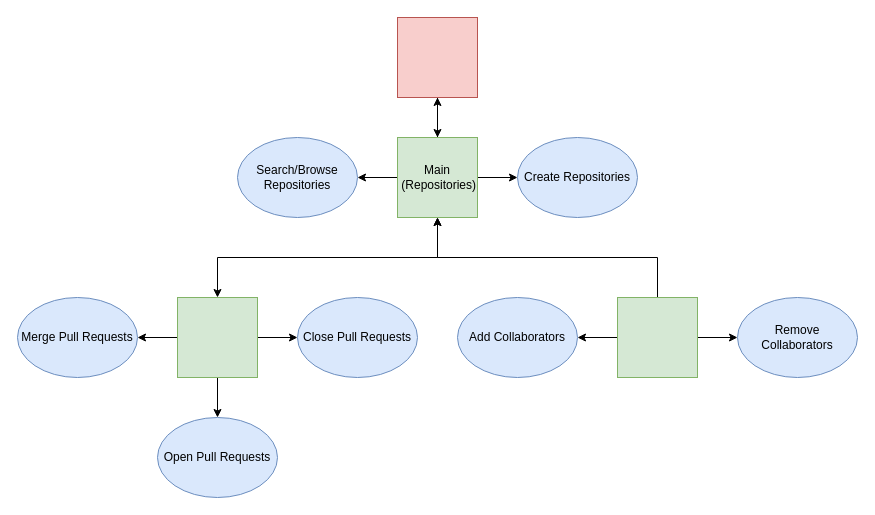
The diagram is 875 pixels wide and 515 high, and some of its shapes have lost their labels. Here are the shapes that lost their labels. From the top down, the box of each, then its label:
(396, 16, 478, 98): User
(176, 296, 258, 378): Pull Requests
(616, 296, 698, 378): Collaborators
